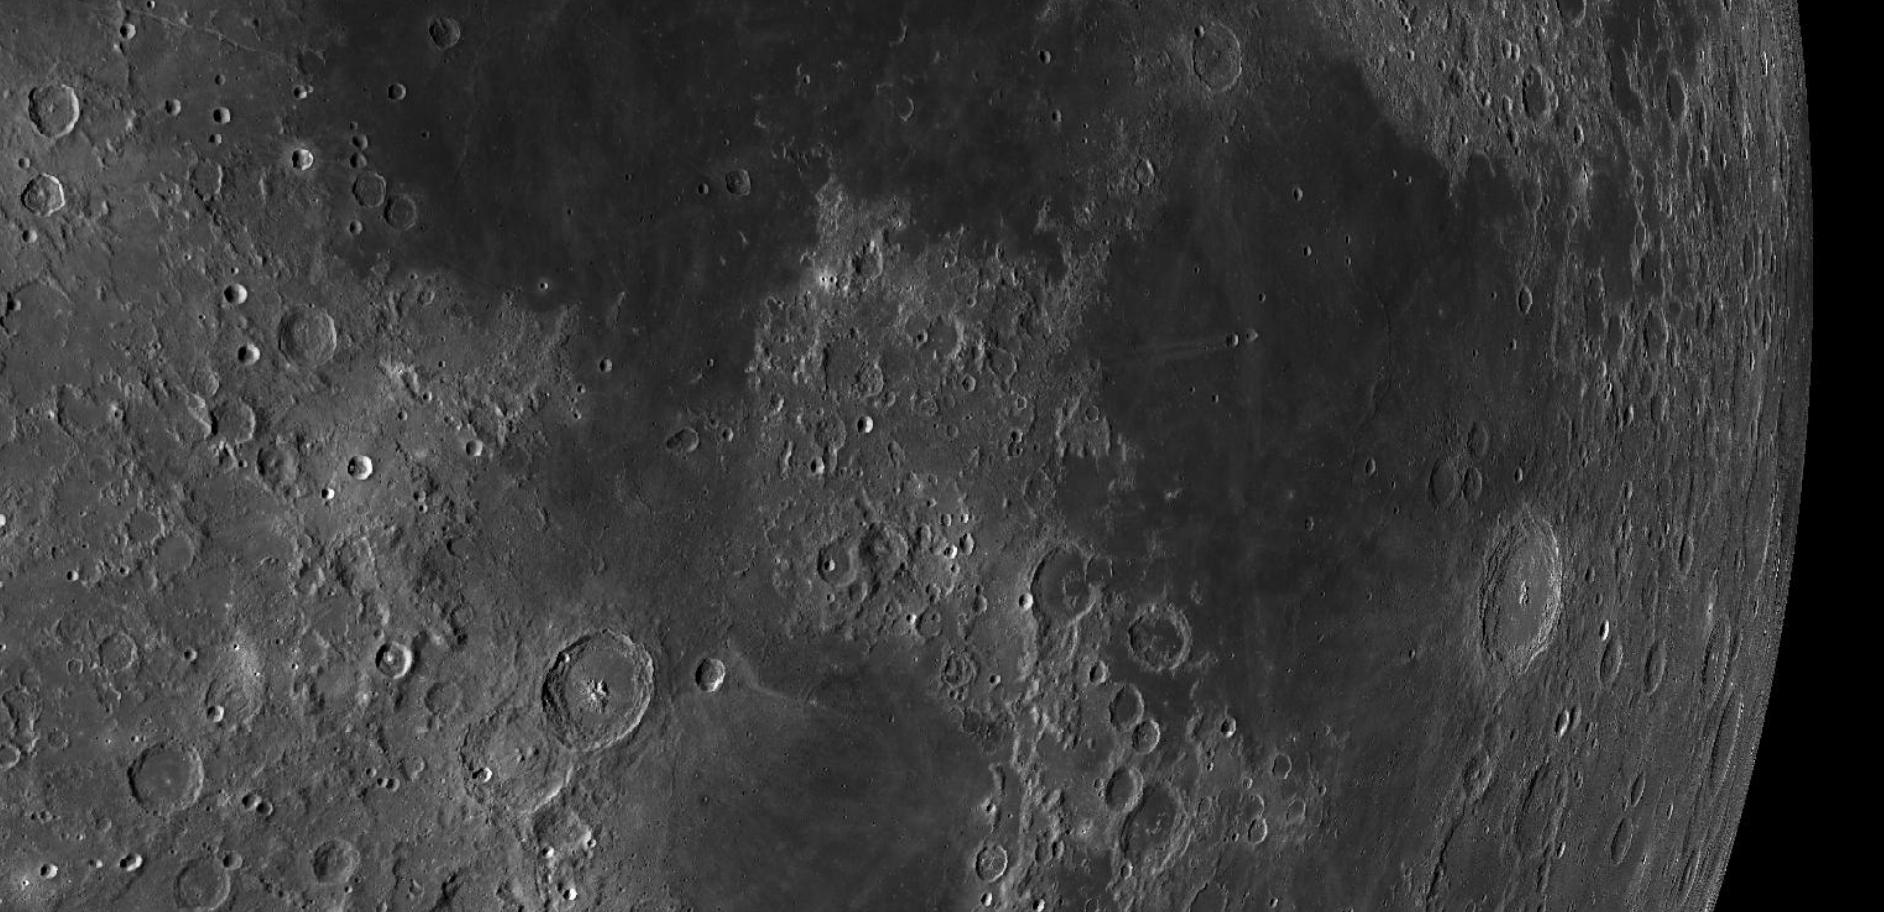crater: (521, 614, 676, 763), (1477, 506, 1582, 696), (1500, 752, 1588, 883), (1114, 577, 1228, 676), (117, 732, 223, 830), (262, 296, 358, 383), (17, 70, 101, 151), (1176, 18, 1262, 95), (403, 8, 505, 67), (143, 521, 217, 595), (79, 610, 149, 684), (288, 829, 372, 888), (383, 169, 440, 254), (1508, 52, 1566, 133), (1694, 607, 1737, 711), (8, 166, 90, 217), (1439, 737, 1500, 803), (687, 648, 747, 713), (330, 435, 388, 499), (1653, 55, 1695, 141), (1091, 756, 1146, 818), (417, 667, 476, 717), (956, 833, 1013, 884), (1495, 262, 1540, 315), (676, 167, 721, 215)
